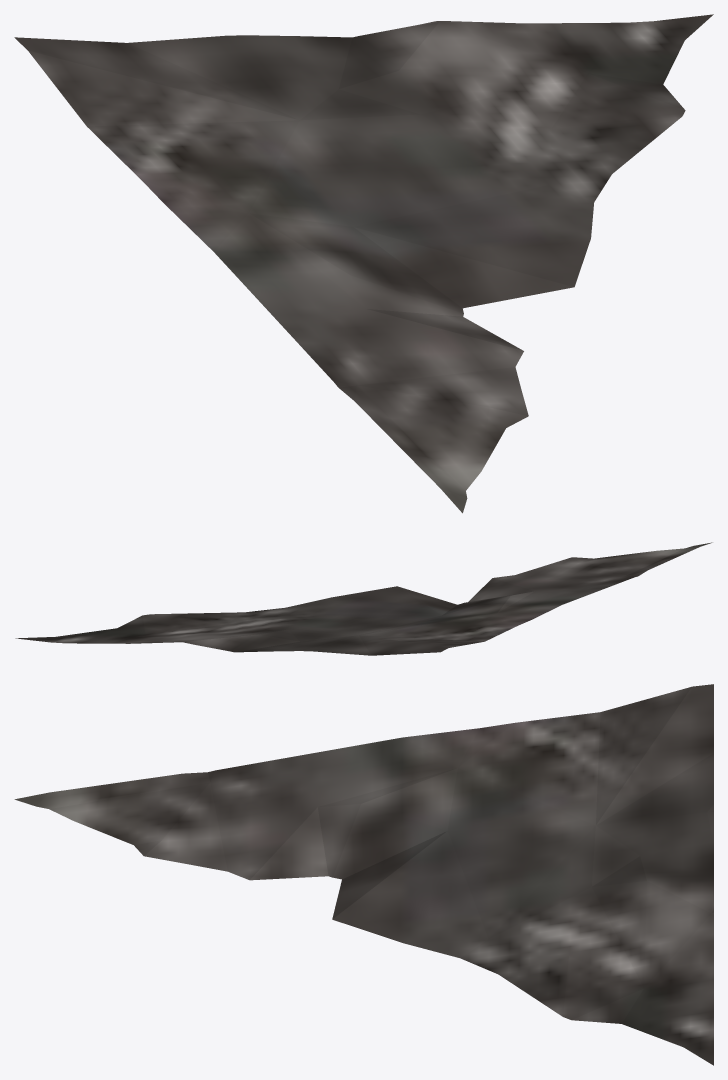
3 renders of one model, top to bottom at view 1: azimuth 30°, elevation 25°; view 2: azimuth 150°, elevation 25°; view 3: azimuth 270°, elevation 25°, orthographic. The views are drawn at different scales.
Bounding box in the file's own units: 0.1974 × 0.0398 × 0.2192.
1 material, 1 textured.
